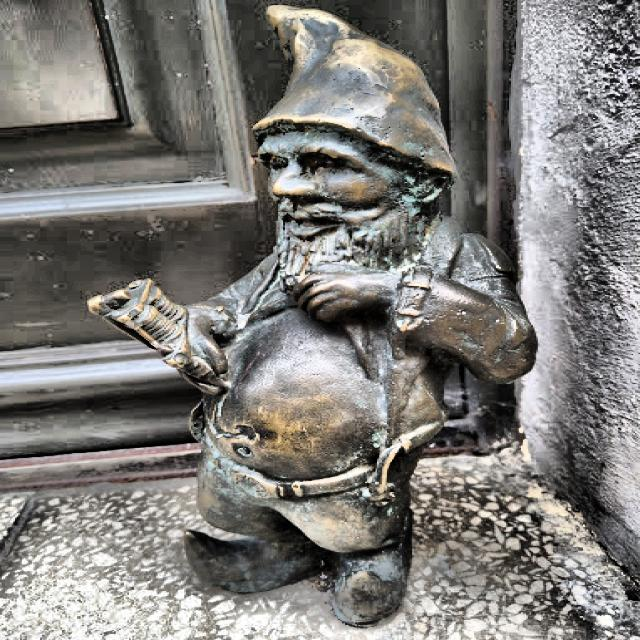TatuazystaKonstanty: (90, 6, 536, 627)
